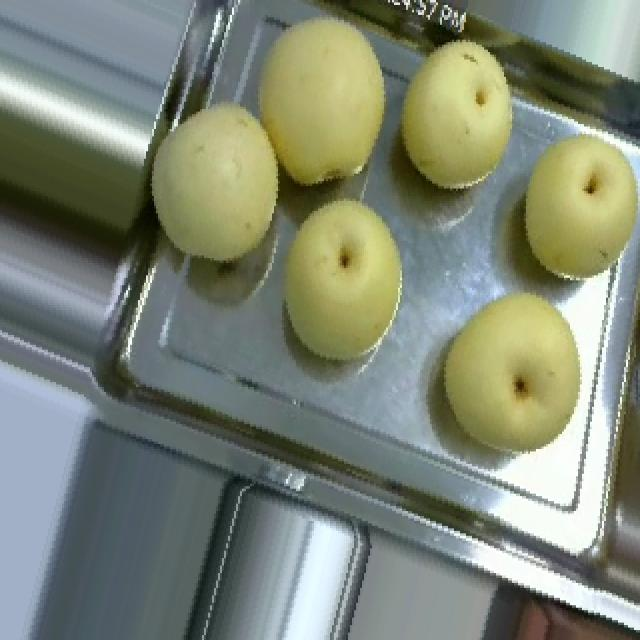Fruit: (120, 79, 308, 288), (420, 270, 608, 474), (230, 0, 410, 211), (252, 174, 426, 382), (380, 10, 538, 211), (502, 114, 640, 300)
